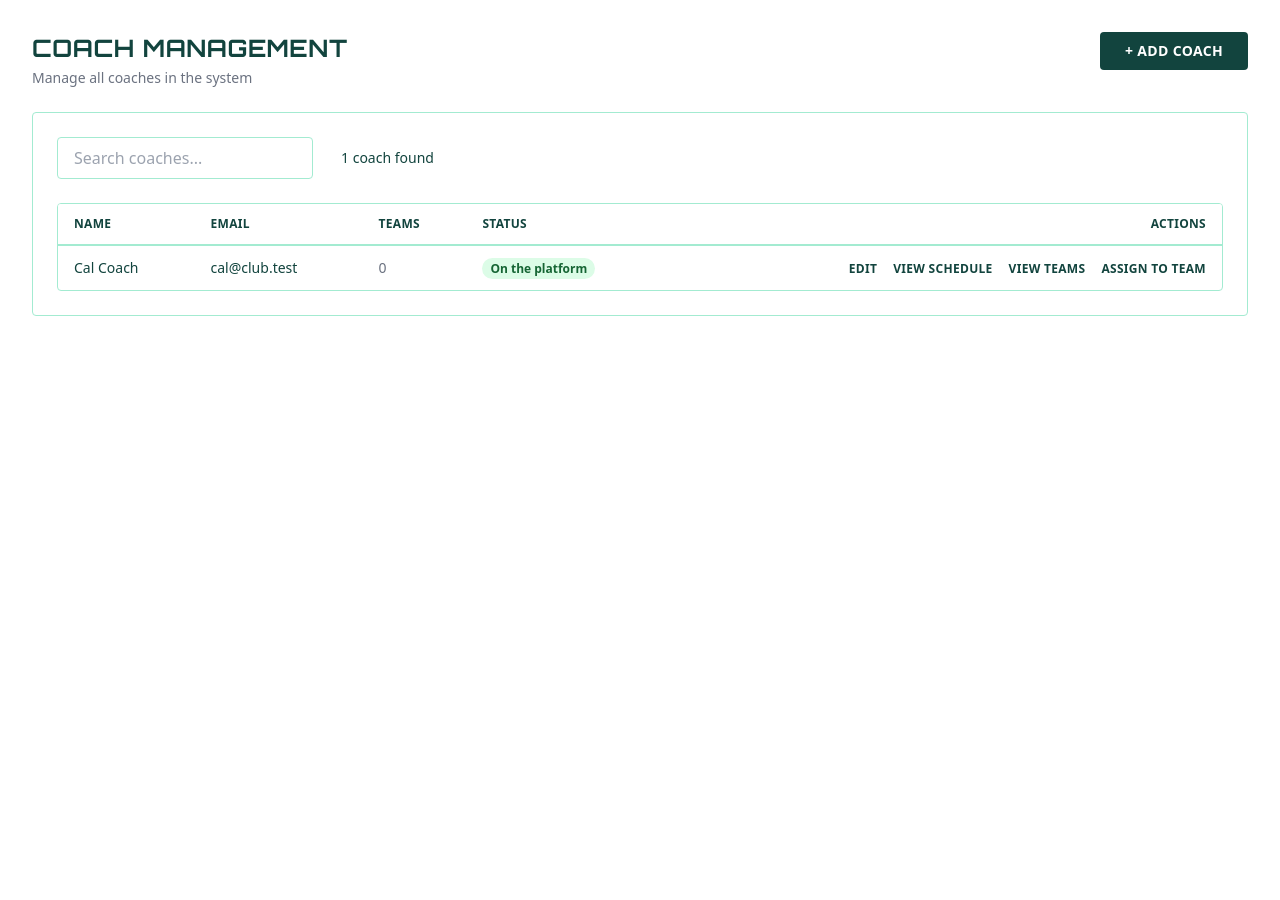
Test: Assign posts user, team and role, then refreshes the team count
The width and height of the screenshot is (1280, 900).
Expected: the text "0" is shown, [379,258,387,277]
Click the button "Assign to Team" at (1154, 269), box [1101,261,1206,277]
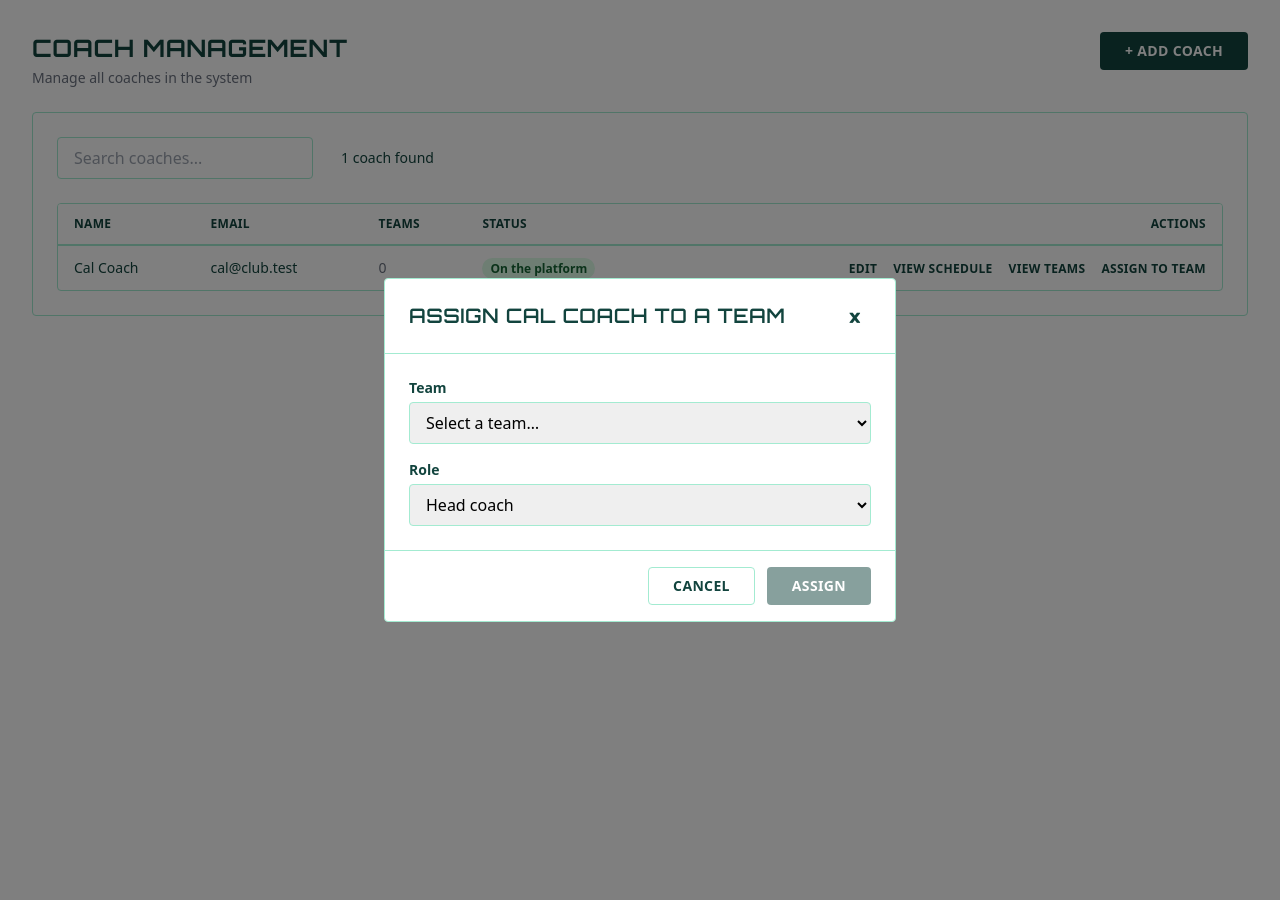
Expected: the button "Assign" is disabled, [767,567,871,605]
Select "U12 Rays" in the dropdown labelled "Team" at (640, 423), box [409,402,871,444]
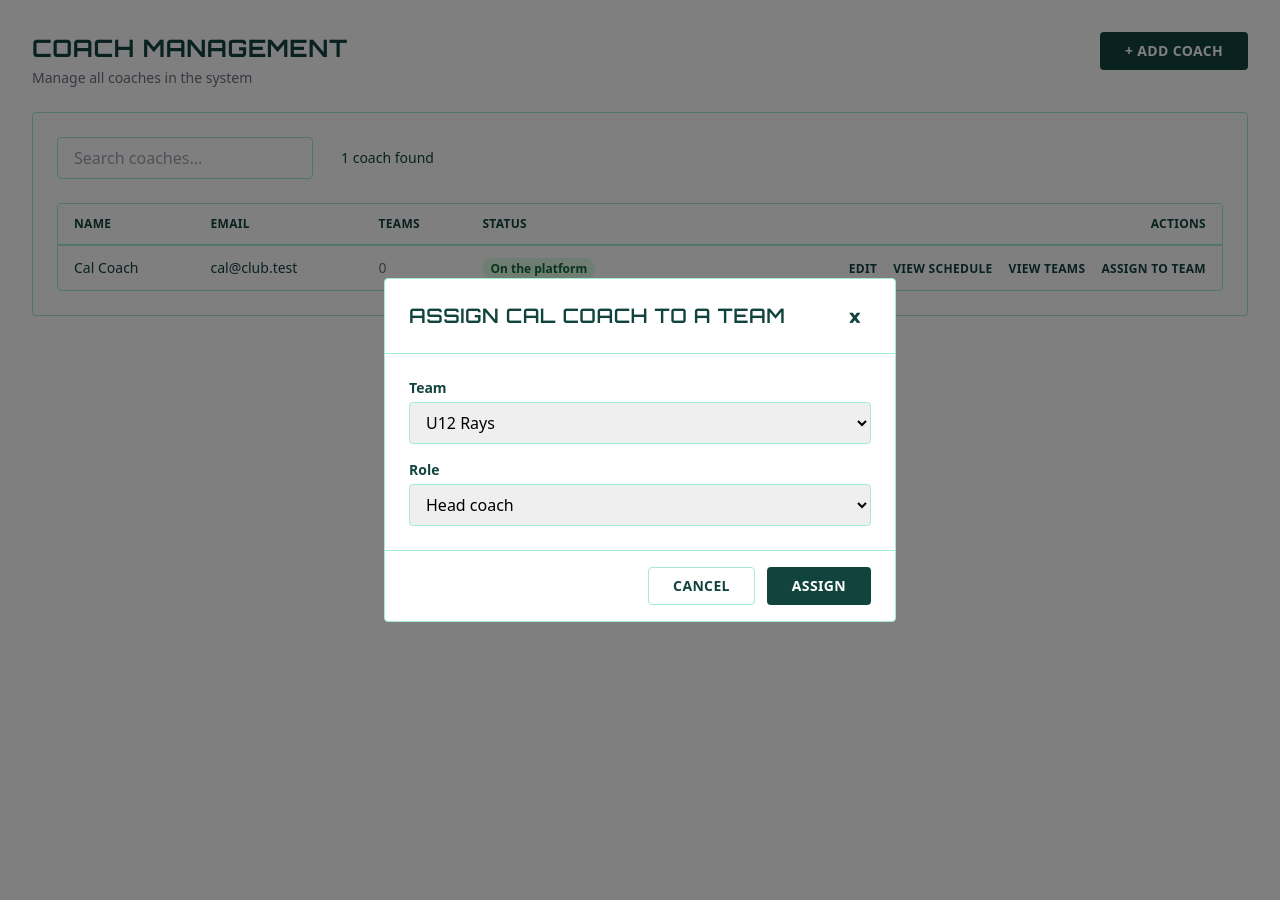
Select "Assistant coach" in the dropdown labelled "Role" at (640, 505), box [409,484,871,526]
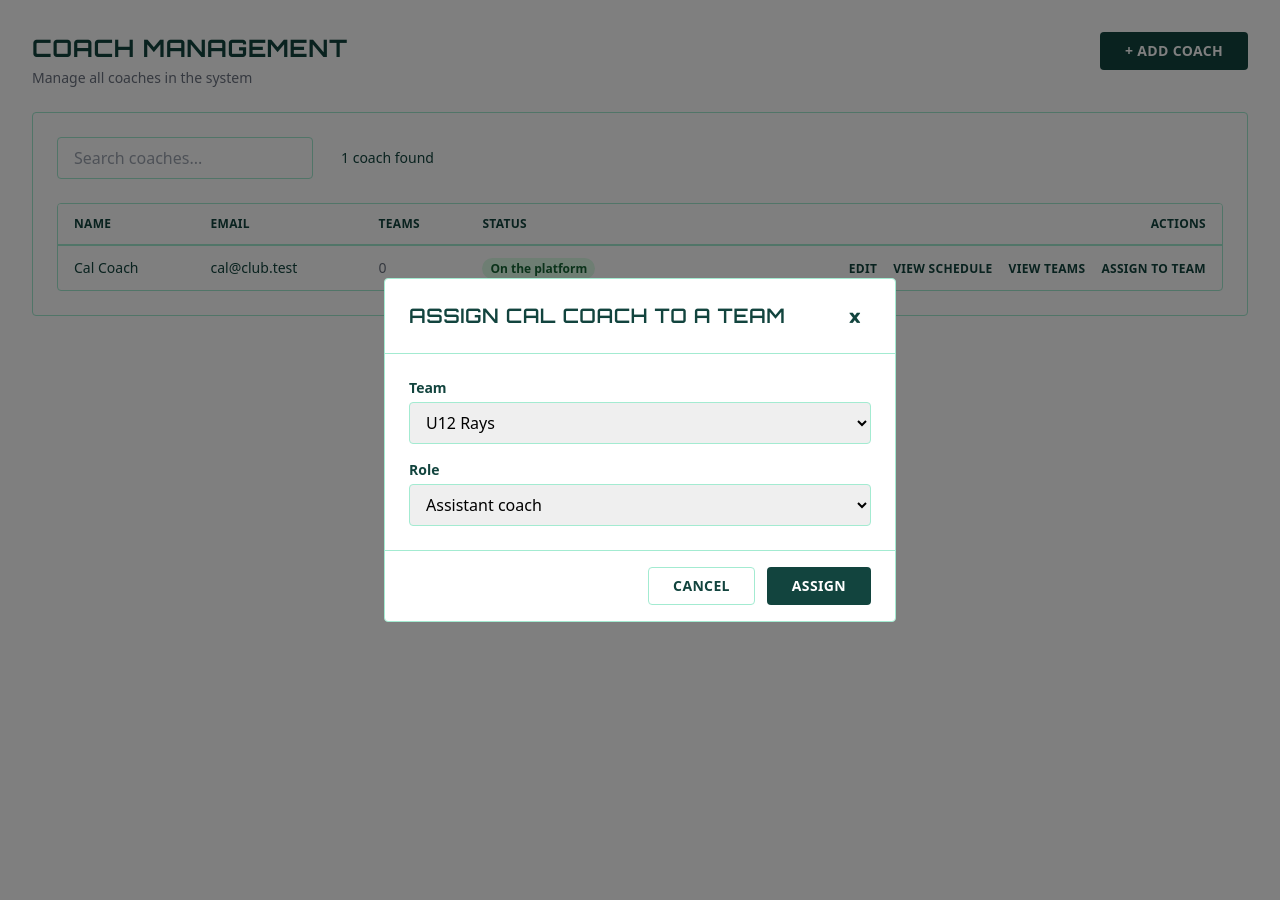
Click the button "Assign" at (819, 586), box [767,567,871,605]
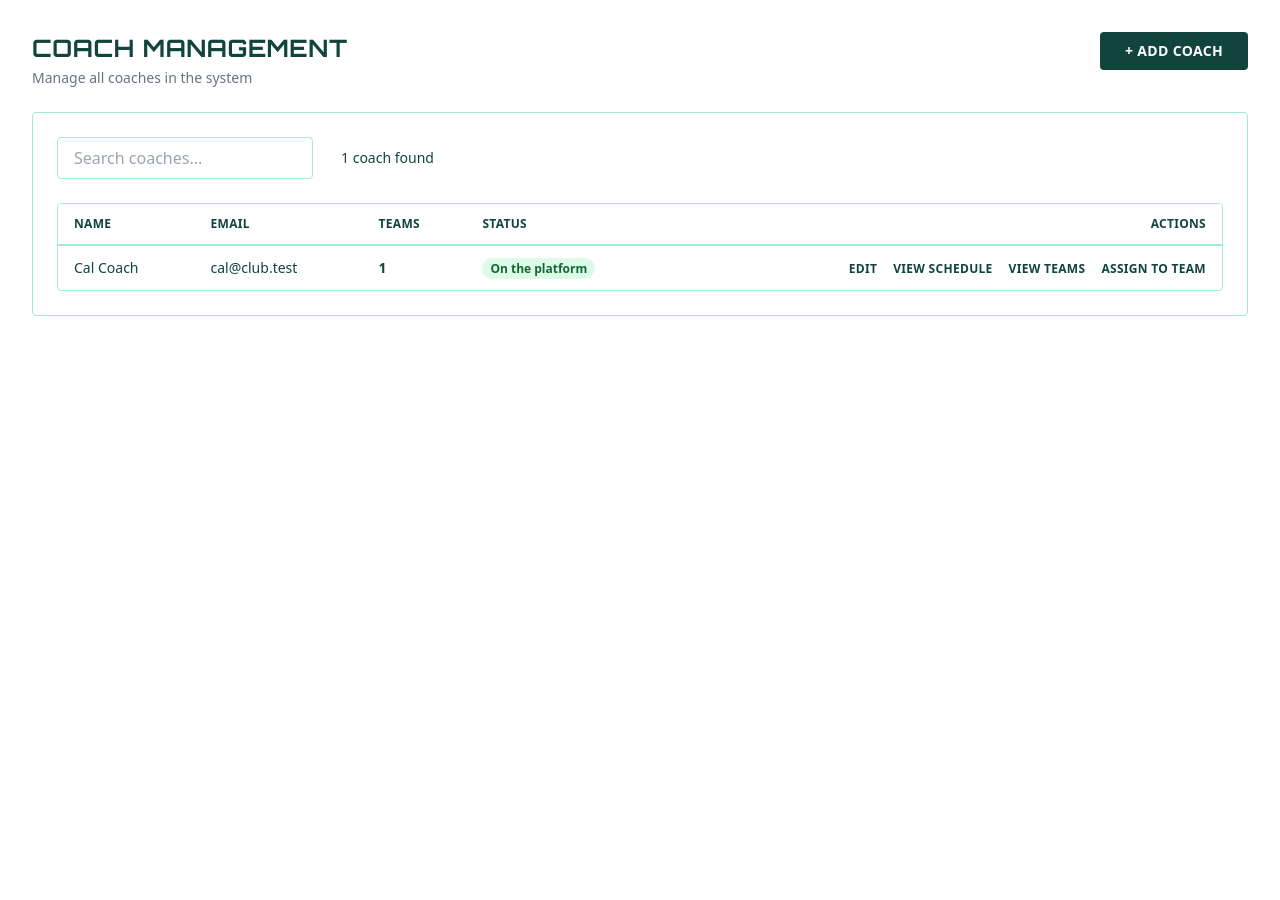
Expected: the text "1" is shown, [379,258,387,277]
